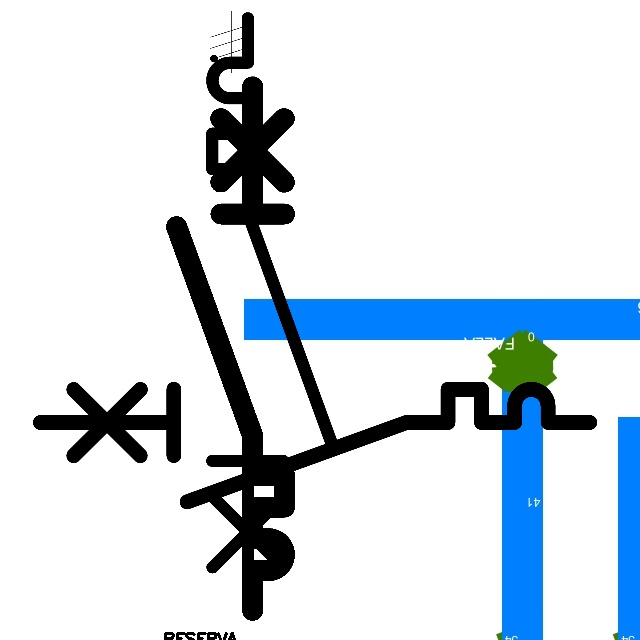interruptor_termomagnetico: (197, 3, 347, 618), (26, 375, 604, 516), (163, 73, 298, 623)
